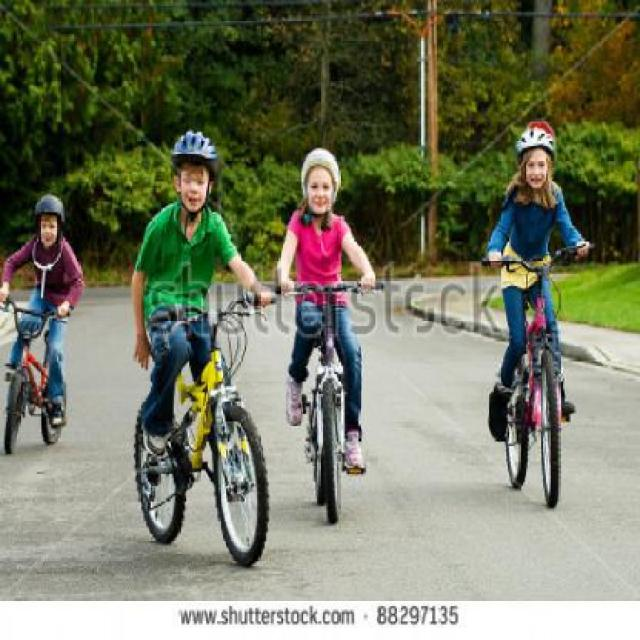With Helmet: (286, 132, 351, 226), (166, 122, 220, 210), (512, 117, 559, 197), (32, 188, 70, 258)
